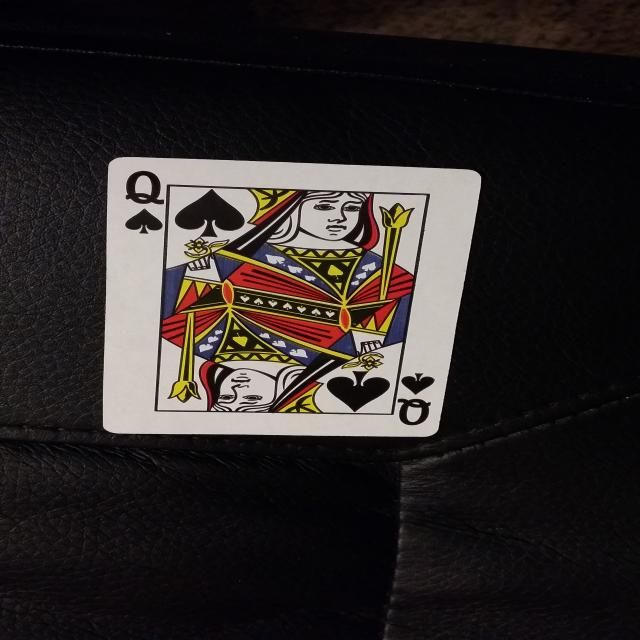Qs: (120, 167, 178, 237), (391, 369, 442, 428)
